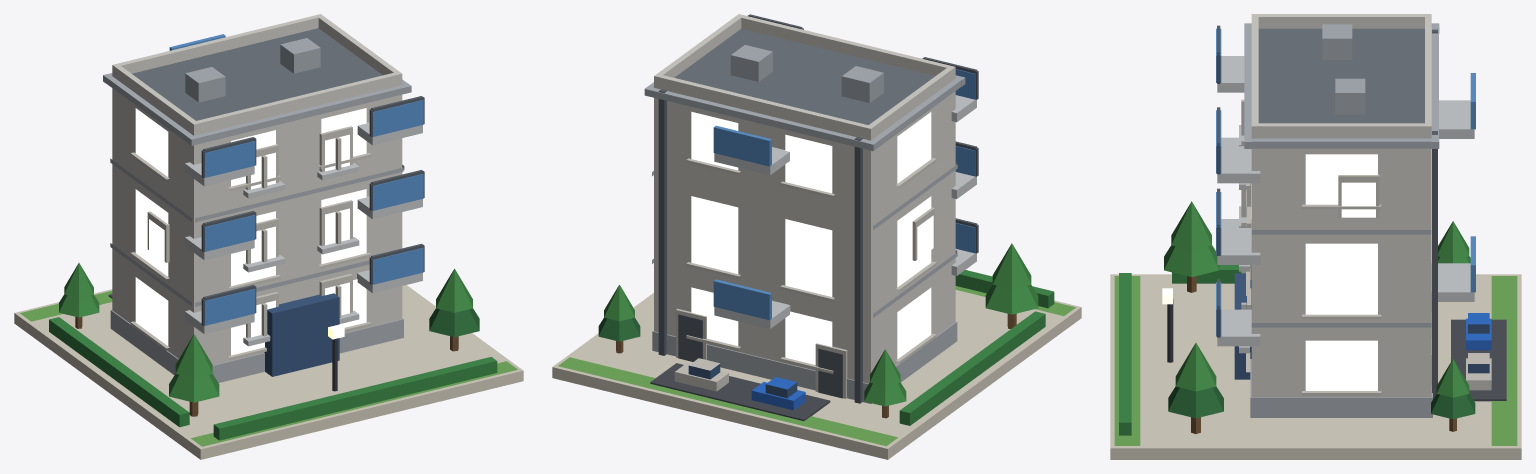
3 renders of one model, left to right at view 1: azimuth 30°, elevation 25°; view 2: azimuth 150°, elevation 25°; view 3: azimuth 270°, elevation 25°, orthographic. The views are drawn at different scales.
Parts seen in each view (by area): view 1: b06; view 2: b06; view 3: b06.
Part boxes in pixels (<box>): b06: <box>14,14,523,459</box>; b06: <box>552,14,1081,459</box>; b06: <box>1110,14,1521,459</box>.
Size of the model in its own units: 0.96 by 0.805 by 0.96.
